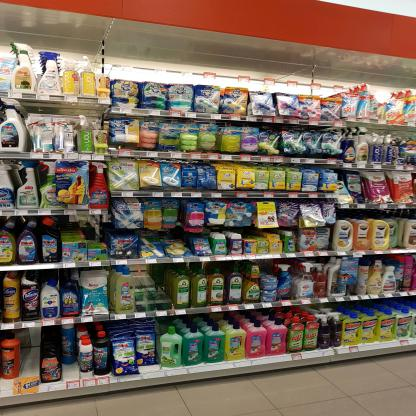Void: (16, 338, 36, 374), (156, 274, 172, 307)
